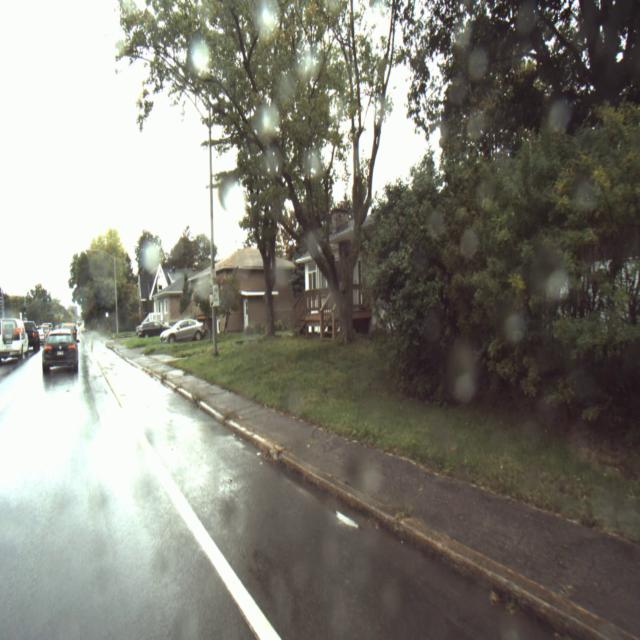car: (42, 330, 78, 378), (2, 317, 30, 363), (160, 320, 208, 344), (24, 320, 42, 354), (140, 322, 165, 338)
